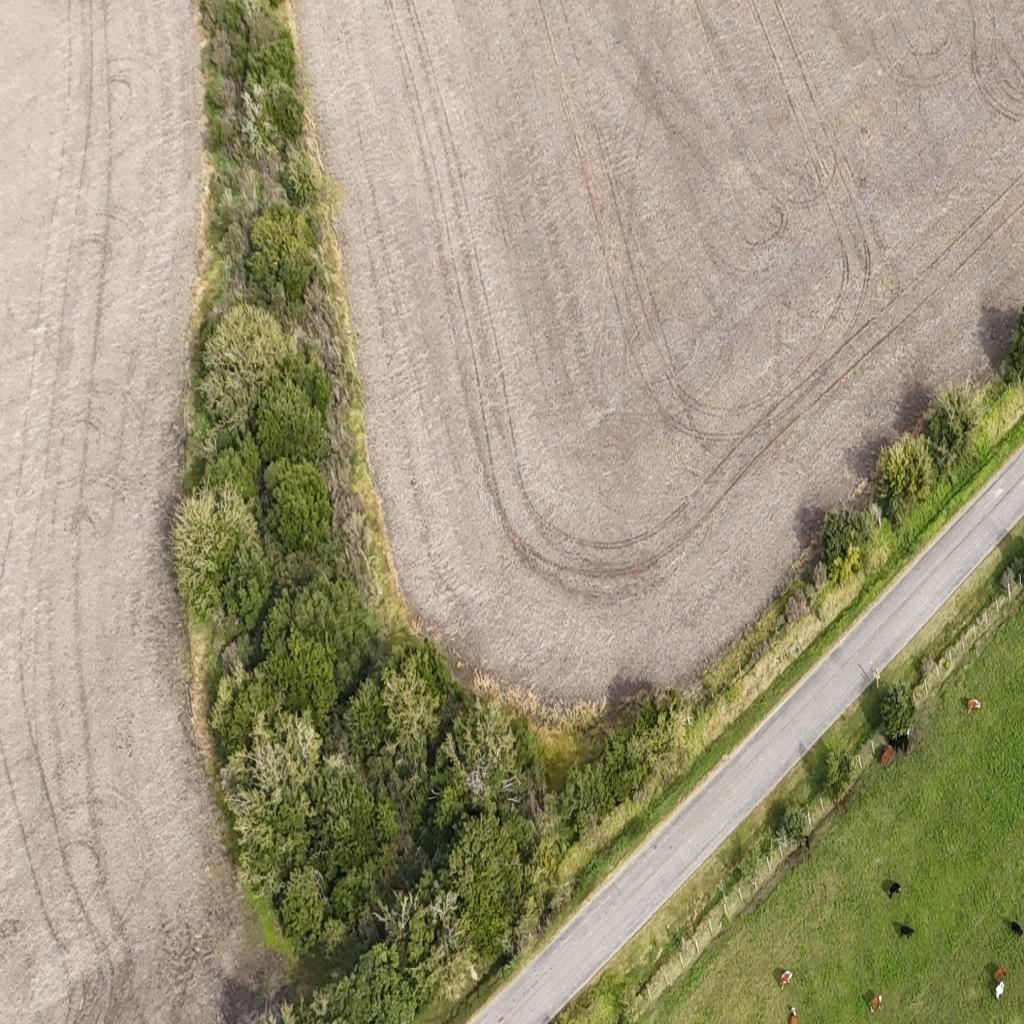cow: (1006, 920, 1024, 940), (779, 970, 794, 992), (992, 964, 1009, 983), (880, 744, 893, 768), (868, 994, 882, 1015), (886, 882, 902, 900), (902, 729, 912, 756), (994, 982, 1006, 1004), (898, 924, 914, 940), (968, 695, 982, 713), (788, 1006, 798, 1024), (804, 834, 811, 852)
